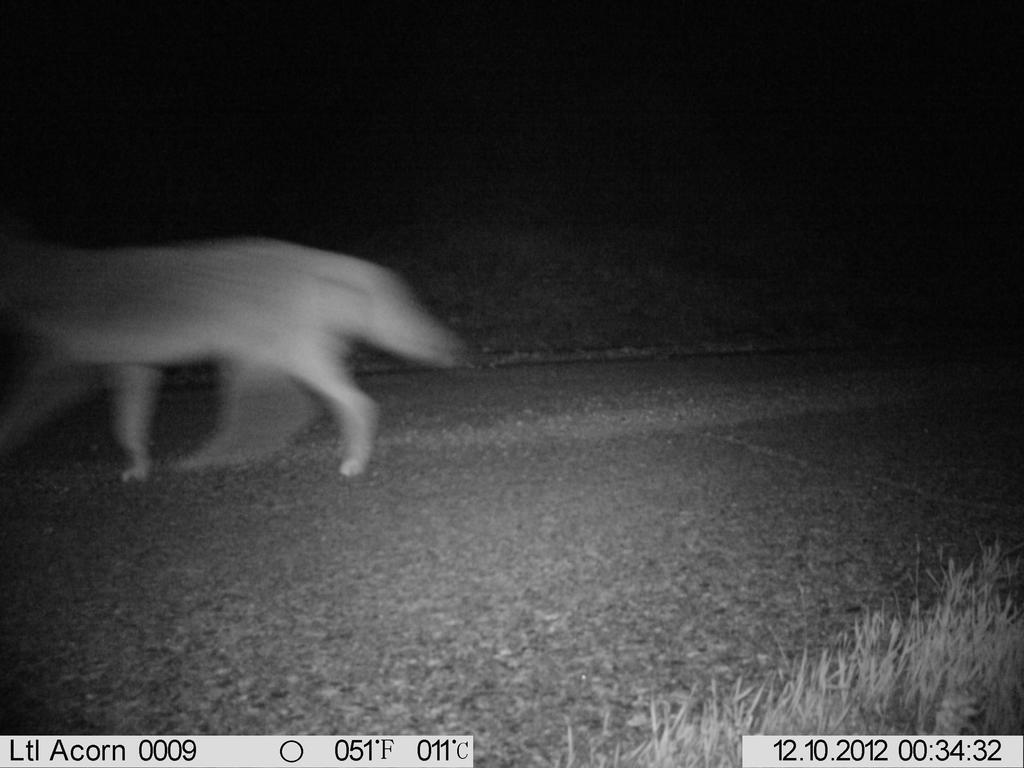coyote: (5, 205, 477, 506)
